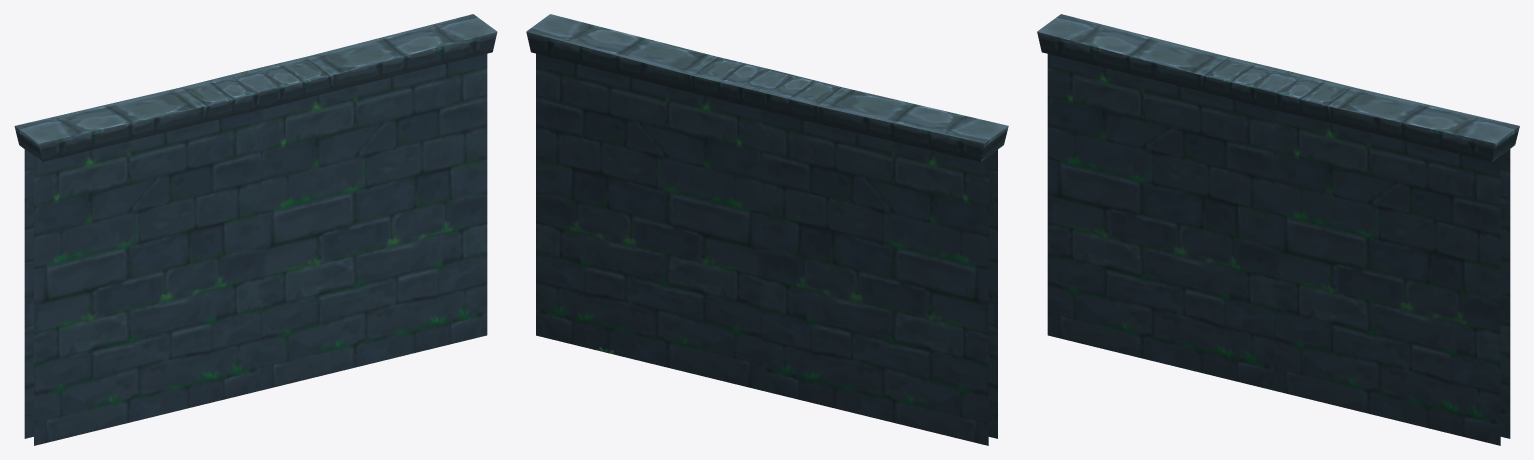
The model's file is jfdx_weiqiang_03.FBX.
3 views of the same model, side by side, from view 1: azimuth 30°, elevation 25°; view 2: azimuth 150°, elevation 25°; view 3: azimuth 330°, elevation 25° (orthographic).
Visible parts, largest first — view 1: jfdx_weiqiang_03; view 2: jfdx_weiqiang_03; view 3: jfdx_weiqiang_03.
Part boxes in pixels (x1,y1,x2,y2): jfdx_weiqiang_03: (14,14,497,445); jfdx_weiqiang_03: (526,14,1008,445); jfdx_weiqiang_03: (1037,14,1519,445).
Size of the model in its own units: 708 by 455 by 69.01.
